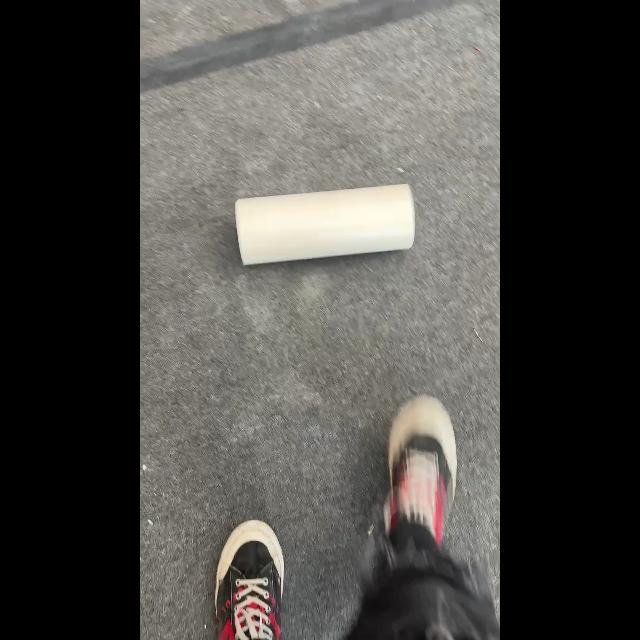CORAL: (234, 182, 416, 266)
